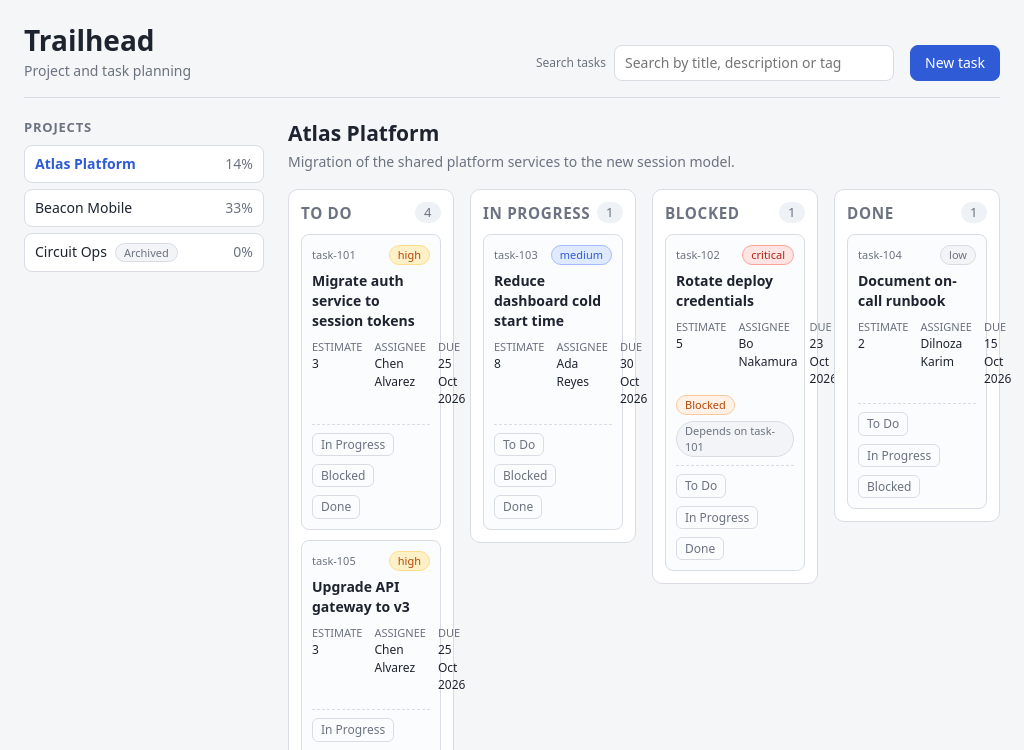
Test: the sprint panel › shows the plan of the project that is selected
The image size is (1024, 750).
Click the button "Beacon Mobile".
click(84, 208)  # box top-left (35, 198), bottom-right (132, 218)
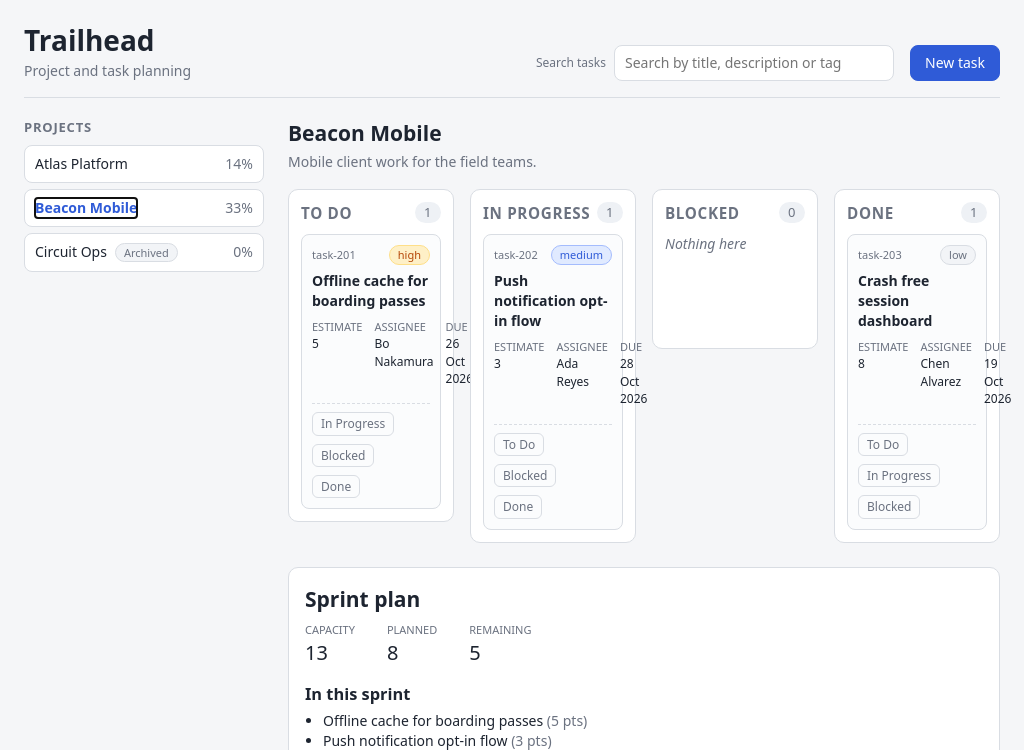
Expected: the text with test id "sprint-capacity" reads "13", top-left (305, 639), bottom-right (328, 666)
